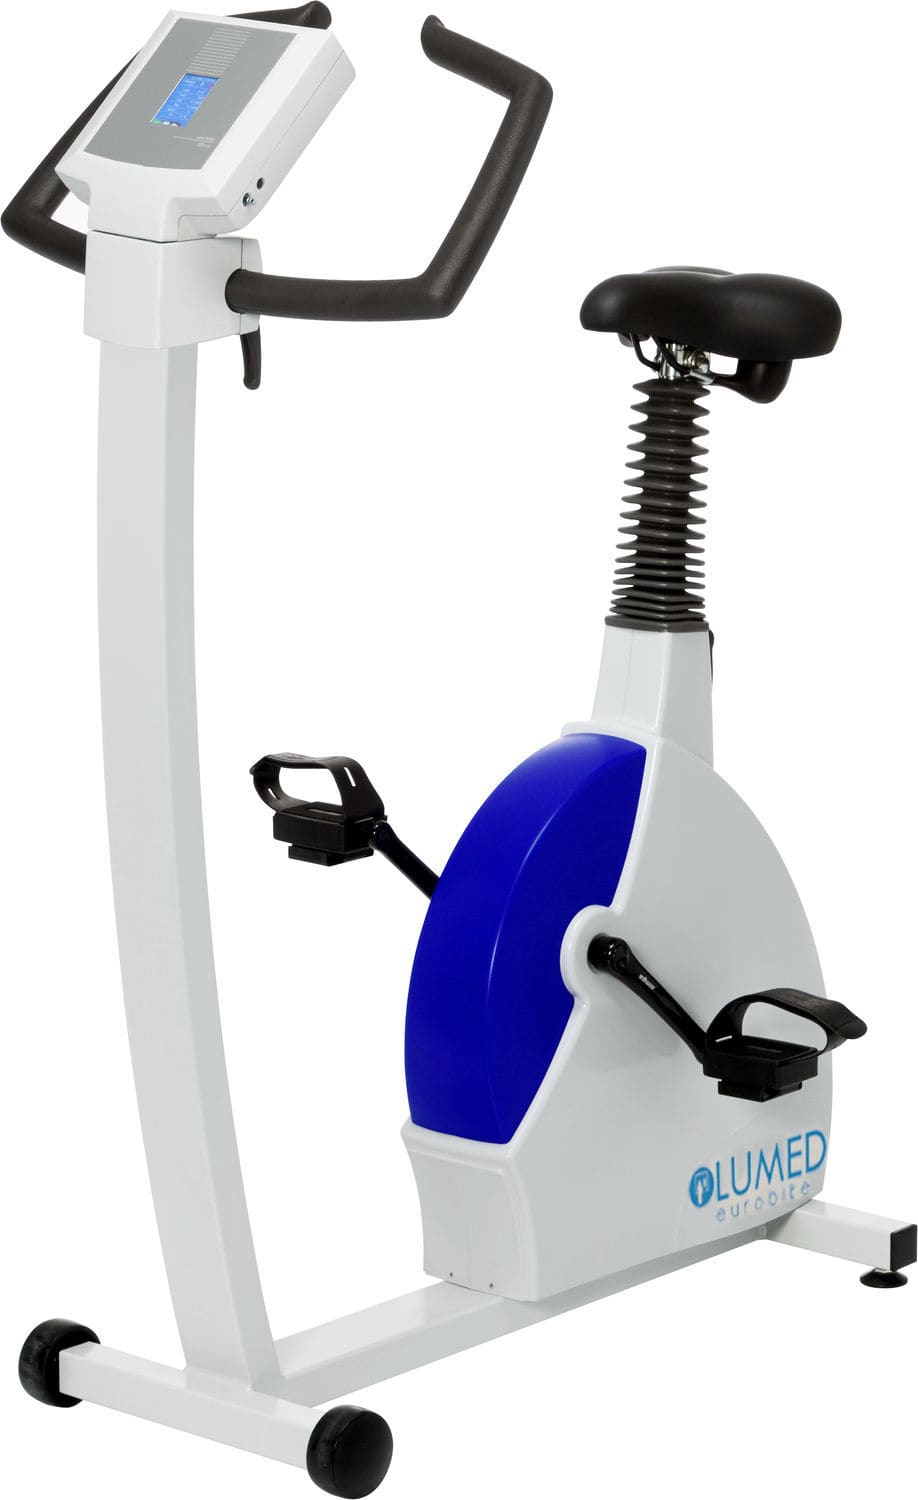gym_bike: (7, 1, 918, 1476)
